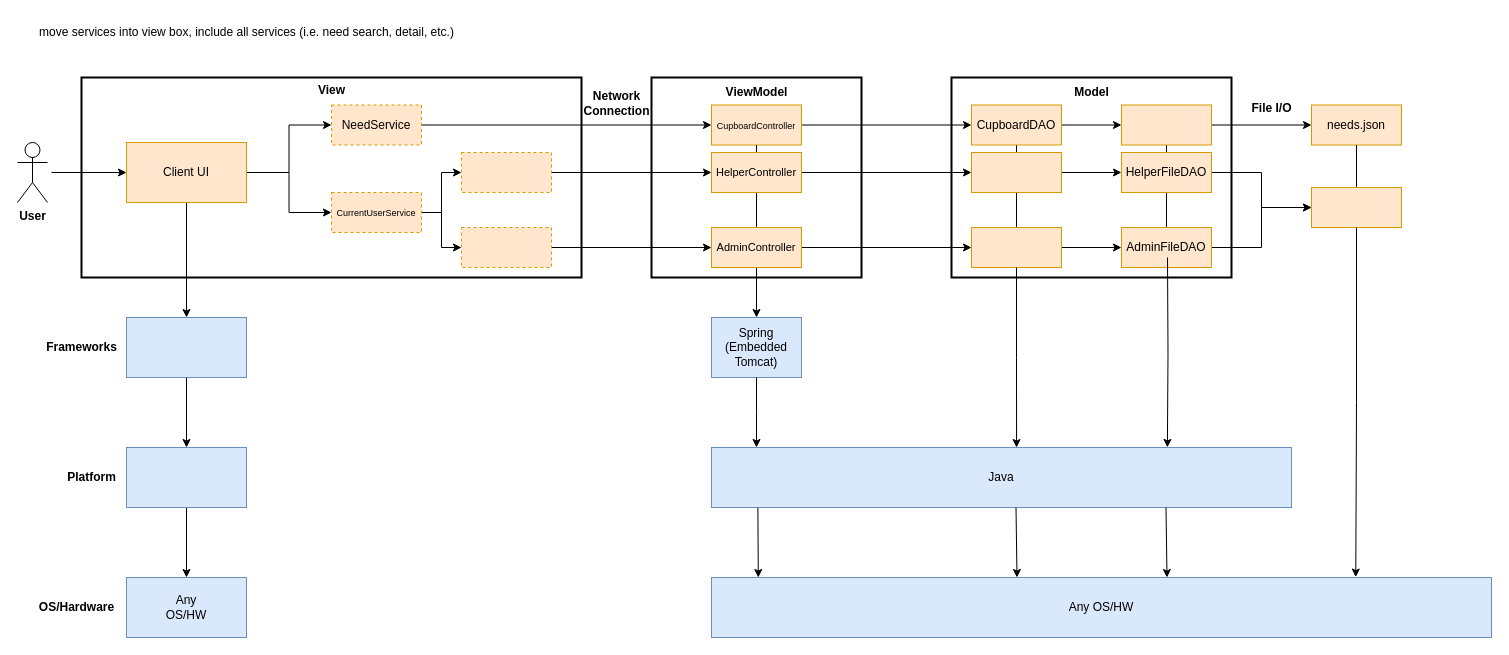
Some shapes in this 1509 by 655 pixel diagram are drawn without their labels. The shapes that lost their labels are listed below. From the top down, each one's centre as x and y in pixels, then its label:
the point at 1166,124: CupboardFileDAO
the point at 506,172: HelperService
the point at 1016,172: HelperDAO
the point at 1356,207: users.json
the point at 506,247: AdminService
the point at 1016,247: AdminDAO
the point at 186,347: Angular & TypeScript
the point at 186,477: Any Browser
